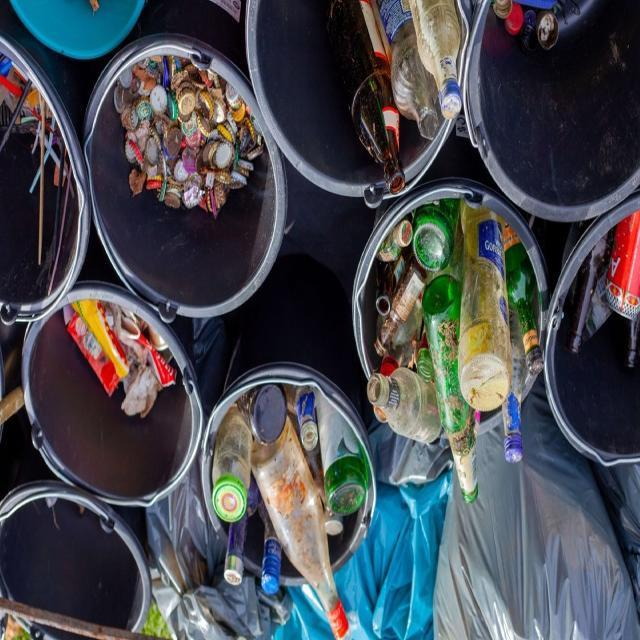Garbage: (368, 198, 544, 502), (212, 383, 369, 640), (328, 1, 461, 196), (112, 56, 265, 218), (0, 52, 85, 322), (65, 301, 176, 418), (566, 212, 640, 367)
Glass_bottle: (251, 418, 349, 640), (328, 0, 405, 196), (422, 274, 479, 502), (459, 203, 512, 411), (376, 0, 439, 138), (316, 394, 369, 516), (409, 1, 461, 120), (566, 228, 615, 353), (504, 224, 544, 376), (368, 367, 441, 444), (375, 256, 426, 356), (212, 404, 251, 522), (502, 309, 528, 462), (224, 477, 260, 587), (304, 443, 344, 536), (412, 198, 460, 271), (236, 384, 288, 444), (380, 303, 422, 376), (375, 247, 411, 316), (285, 386, 319, 451), (258, 501, 281, 593), (379, 218, 412, 262), (625, 314, 640, 367), (416, 349, 434, 382), (374, 404, 388, 421)
Metal: (115, 56, 265, 218), (492, 0, 512, 20)
Plastic: (536, 9, 559, 51), (520, 9, 538, 51), (505, 3, 524, 36)
Plastic_Straw: (48, 166, 71, 296), (0, 81, 31, 153), (52, 140, 65, 262), (0, 73, 28, 98), (44, 116, 56, 164), (31, 120, 41, 153), (30, 167, 40, 193)
Plastic_wraper: (72, 300, 129, 378)
Tetrapack: (66, 312, 120, 396)
can: (606, 212, 640, 320)
